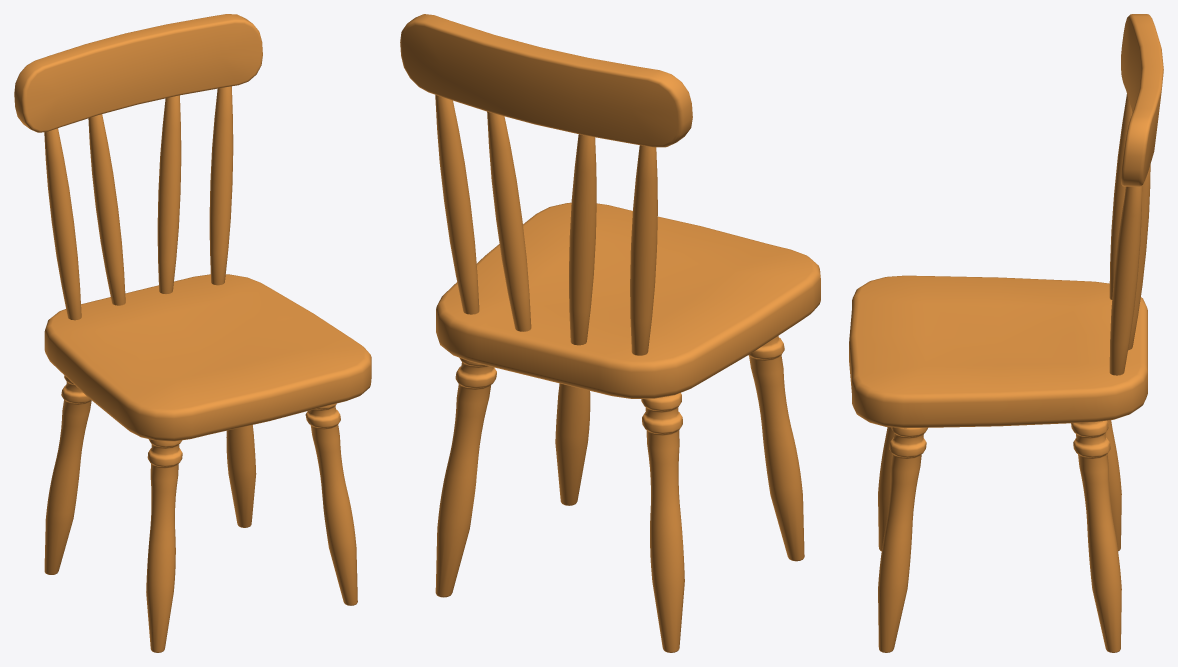
Rendered from chair.fbx.
3 views of the same model, side by side, from view 1: azimuth 30°, elevation 25°; view 2: azimuth 150°, elevation 25°; view 3: azimuth 270°, elevation 25° (orthographic). The views are drawn at different scales.
Parts seen in each view (by area): view 1: Chair; view 2: Chair; view 3: Chair.
Part boxes in pixels (x1=…): Chair: x1=14, y1=14, x2=371, y2=652; Chair: x1=400, y1=14, x2=820, y2=652; Chair: x1=849, y1=14, x2=1163, y2=652.
Size of the model in its own units: 40 by 79.5 by 42.53.
